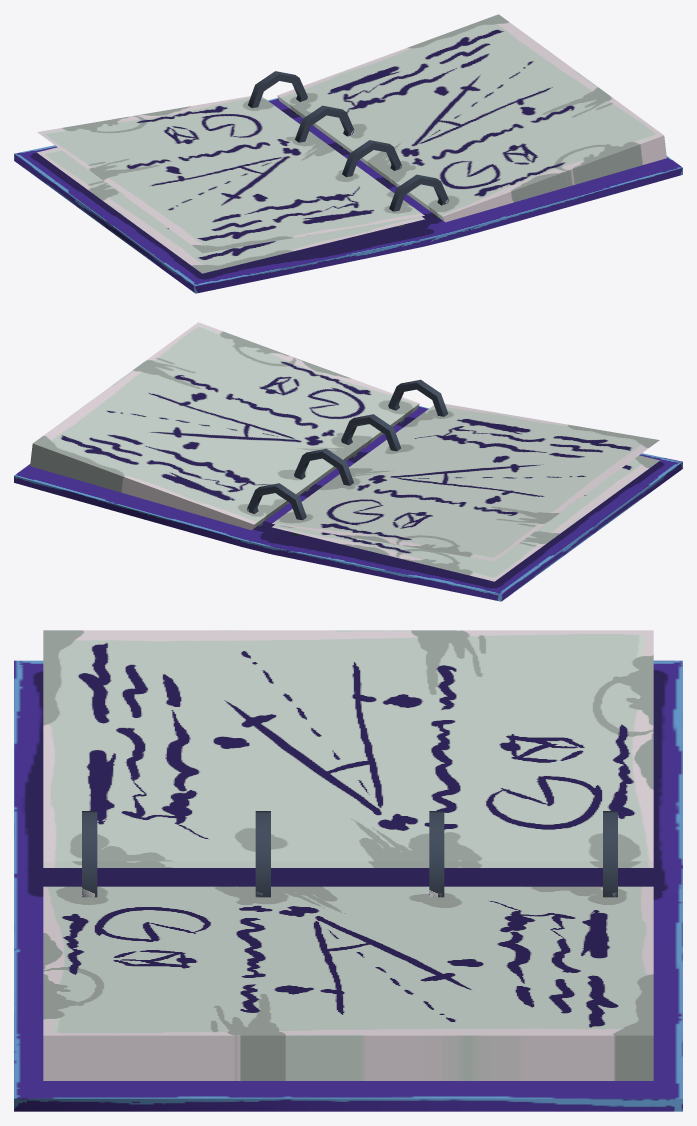
File: Binder_1.glb
3 views of the same model, one above another, from view 1: azimuth 30°, elevation 25°; view 2: azimuth 150°, elevation 25°; view 3: azimuth 270°, elevation 25° (orthographic). The views are drawn at different scales.
Parts seen in each view (by area): view 1: Binder_1; view 2: Binder_1; view 3: Binder_1.
Part boxes in pixels (bbox=[...]): Binder_1: bbox=[14, 14, 682, 293]; Binder_1: bbox=[14, 322, 682, 601]; Binder_1: bbox=[14, 630, 682, 1111].
Size of the model in its own units: 0.6289 by 0.0639 by 0.4058.
Materials: 1 (1 with a texture image).
